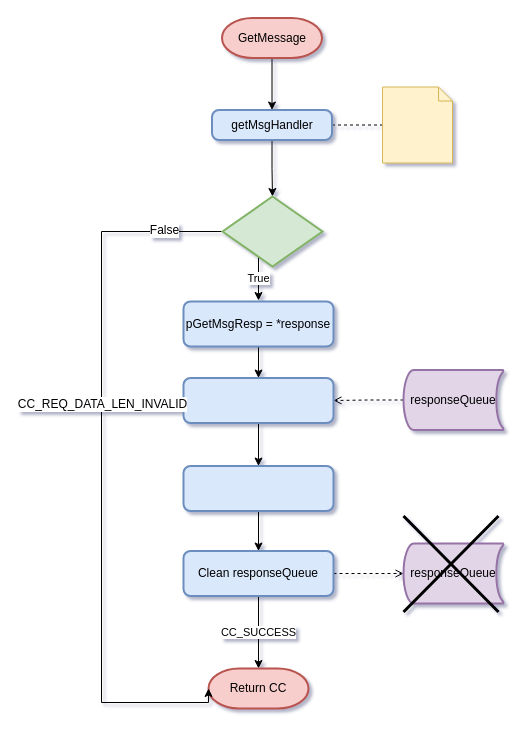
The diagram is 527 pixels wide and 734 high, and some of its shapes have lost their labels. Each missing label, with the box of its shape:
Construct IPMB response to pGetMsgResp: (182, 464, 334, 512)
dataLen == 0: (221, 195, 323, 267)
Retrieve data from responseQueue: (182, 376, 334, 424)
{ request, response, dataLen }: (382, 86, 452, 163)
